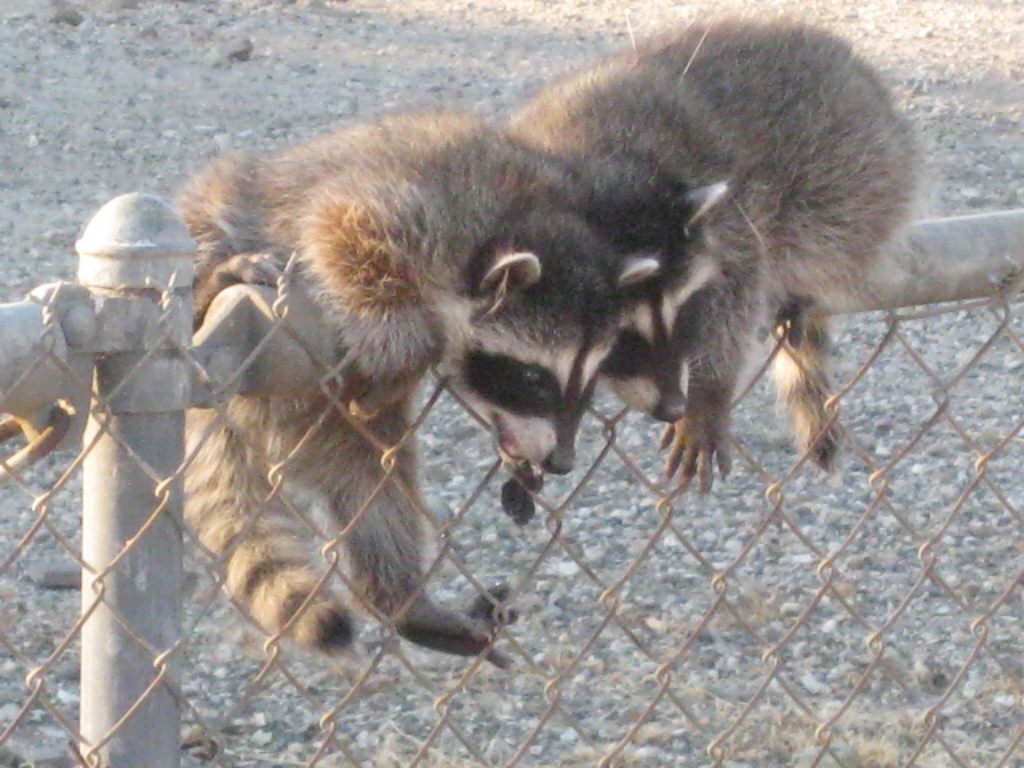raccoon: (162, 107, 663, 659), (511, 11, 926, 486)
